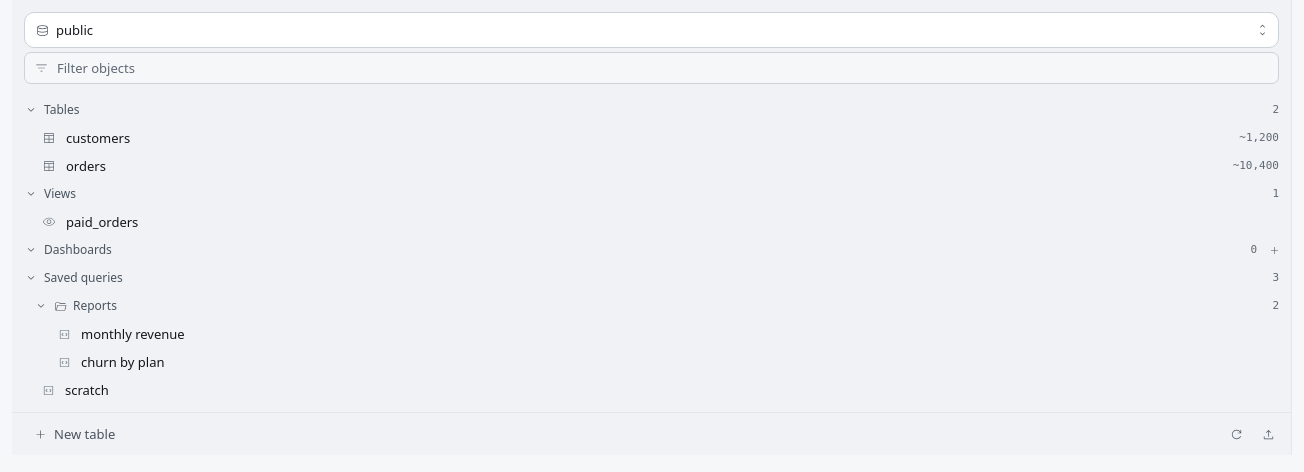
Scenario: Sidebar: saved query folders › groups saved queries by folder, and the filter finds them by folder name
Expected: the text "monthly revenue" is shown, top-left (81, 325), bottom-right (185, 343)
Expected: the text "churn by plan" is shown, top-left (81, 353), bottom-right (164, 371)
Type "reports" into the field labelled "Filter objects" at (652, 68), box top-left (24, 52), bottom-right (1279, 84)
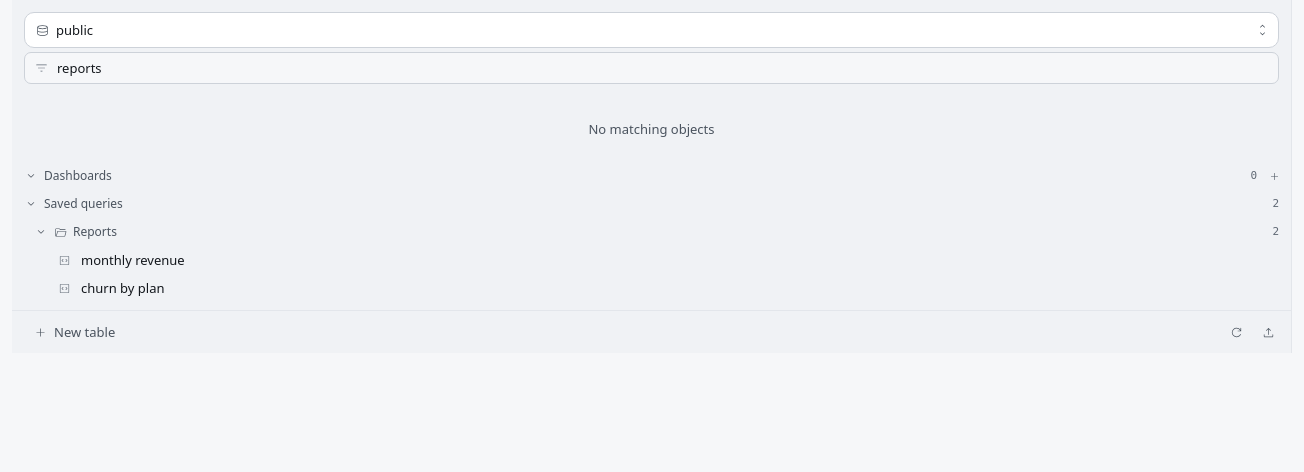
Expected: the text "monthly revenue" is shown, top-left (81, 251), bottom-right (185, 269)
Now the list item "scratch" is gone
